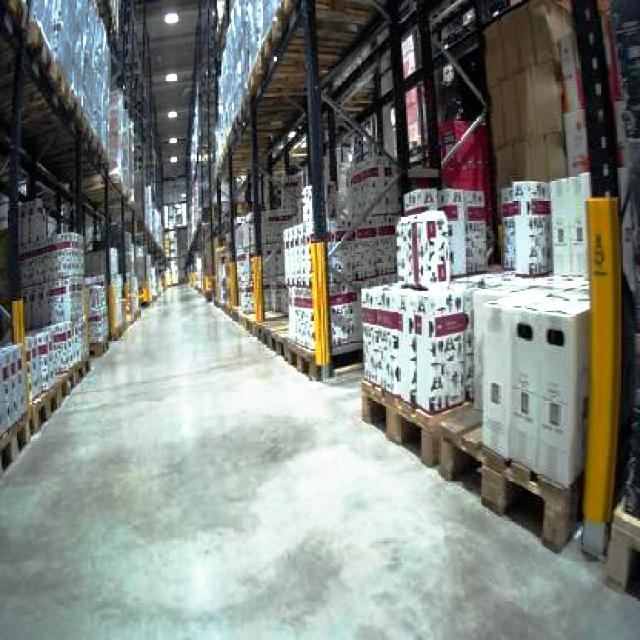ground: (0, 278, 638, 638)
pallet: (188, 0, 638, 638), (355, 169, 623, 555), (358, 375, 582, 552), (603, 0, 638, 638)
